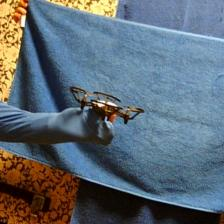drone: (68, 86, 147, 125)
